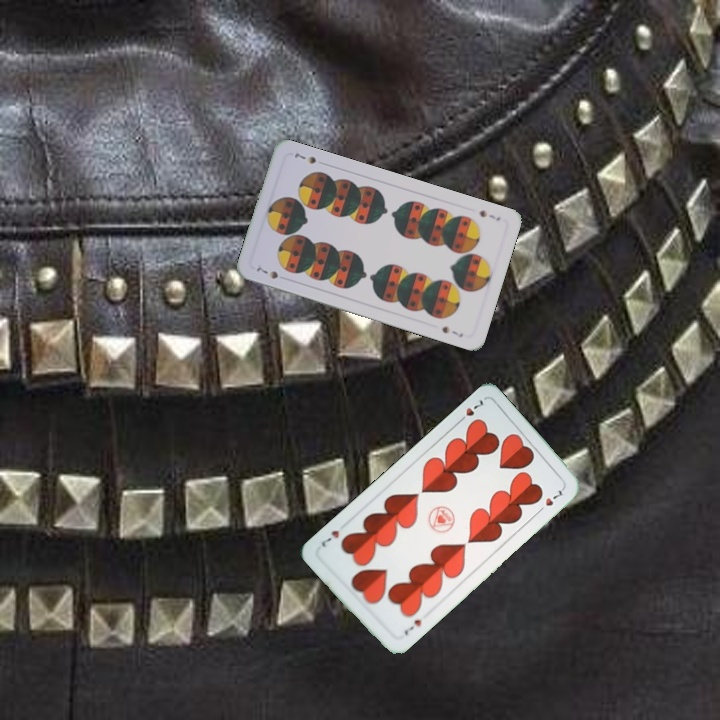H7: (454, 394, 488, 426), (400, 615, 424, 638)
S7: (252, 263, 281, 282), (475, 206, 503, 223)
